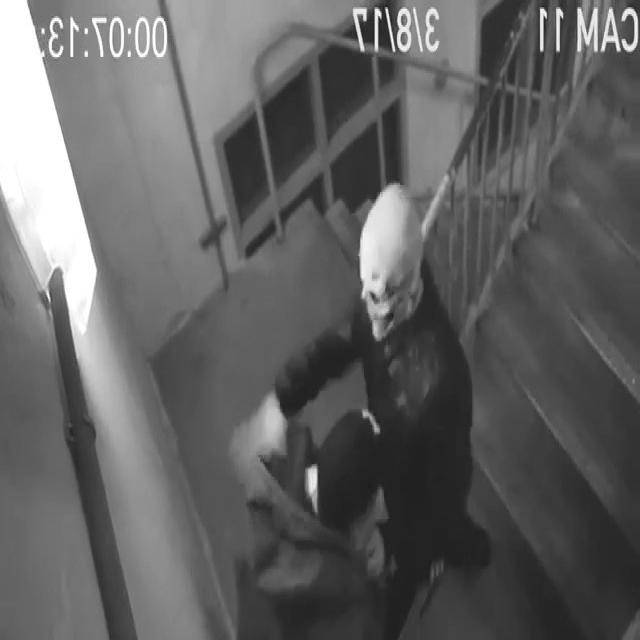fight: (171, 123, 515, 640)
